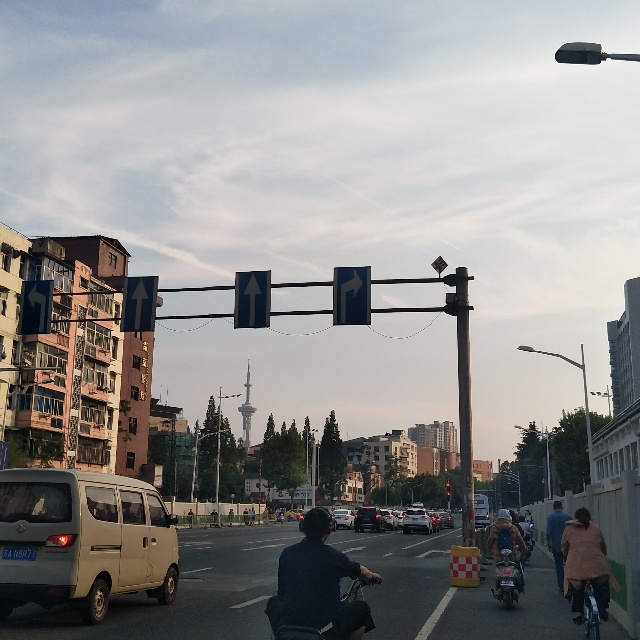left: (18, 280, 52, 335)
right: (333, 266, 371, 326)
straight: (234, 270, 272, 329), (120, 276, 159, 332)
